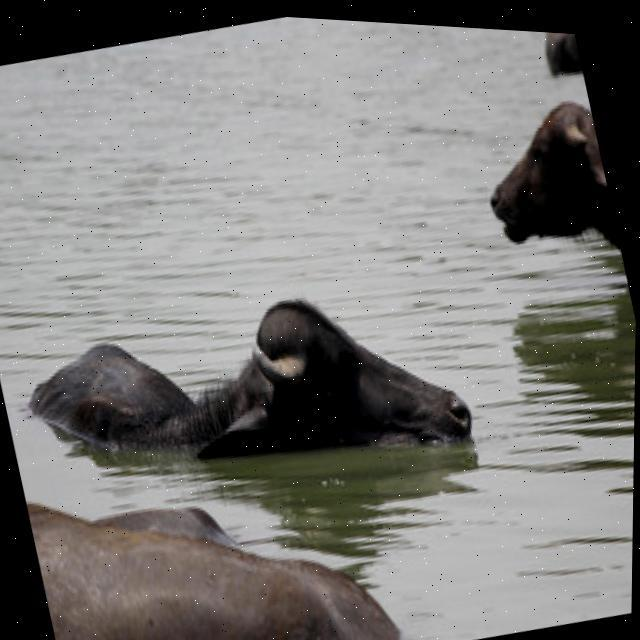Buffalo: (15, 246, 482, 536), (457, 68, 626, 290)
